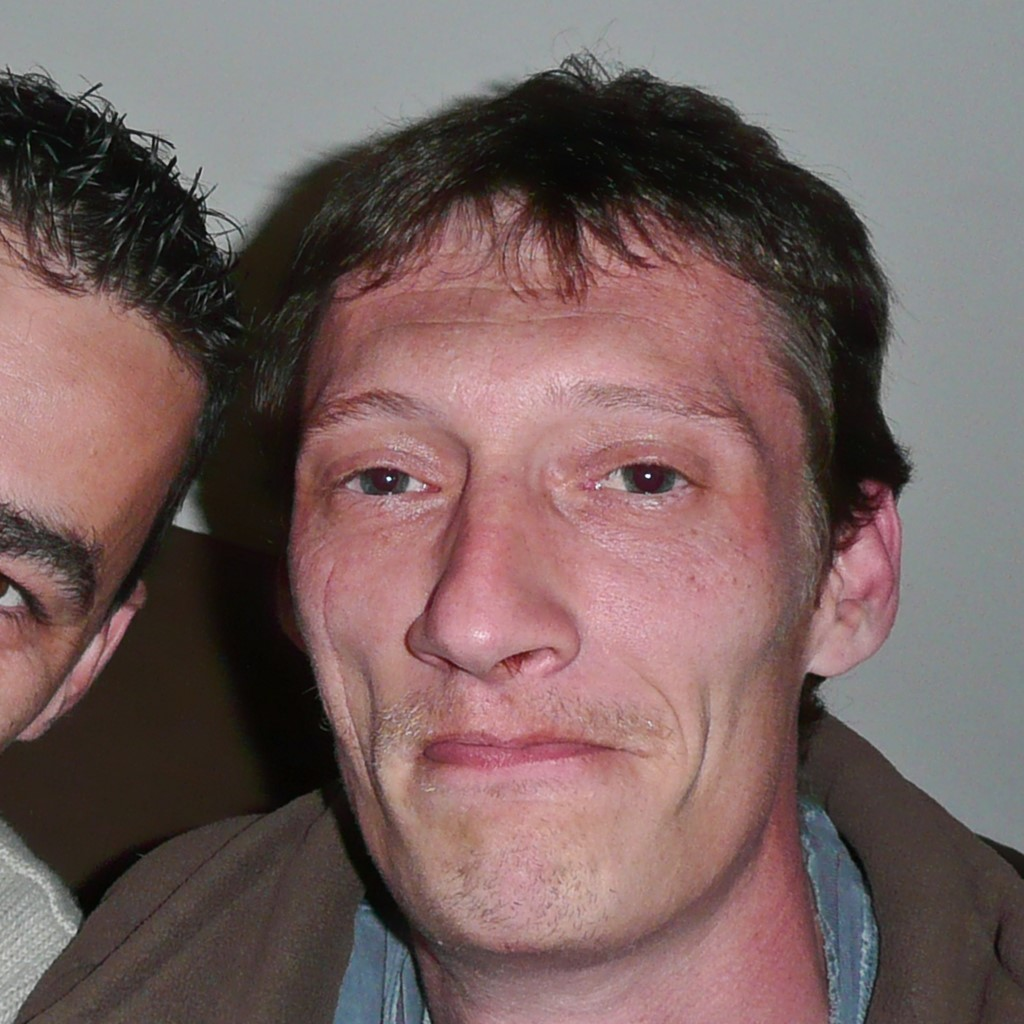sin_mascara: (292, 156, 899, 963)
